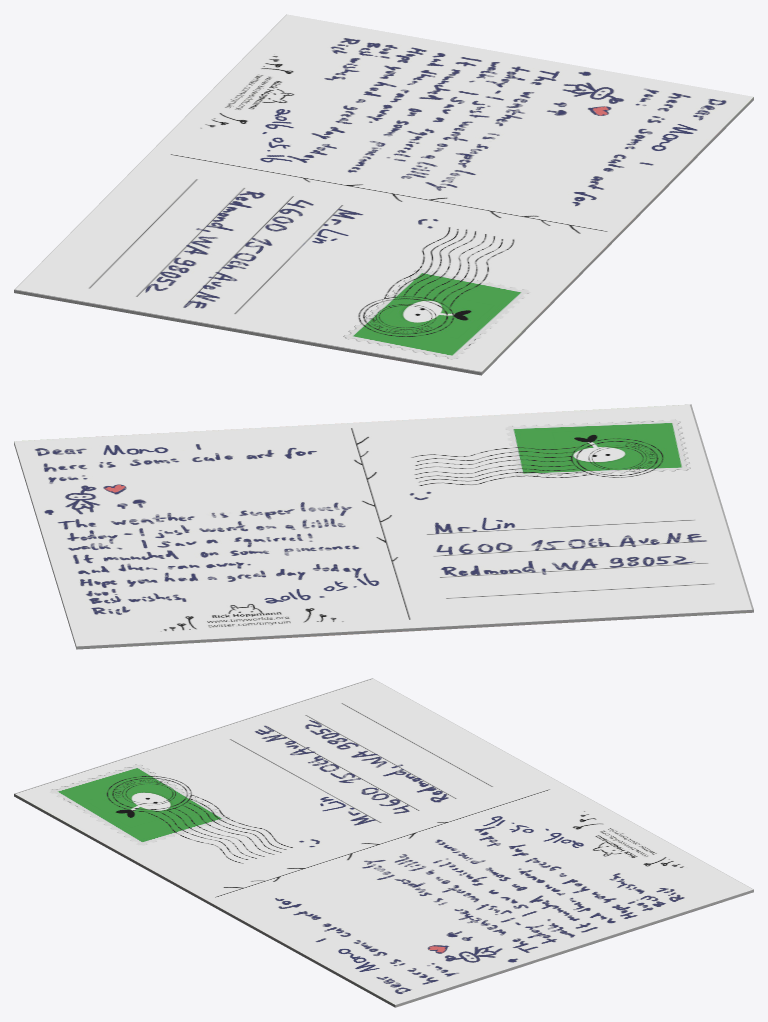
3 renders of one model, top to bottom at view 1: azimuth 30°, elevation 25°; view 2: azimuth 150°, elevation 25°; view 3: azimuth 270°, elevation 25°, orthographic. The views are drawn at different scales.
Parts seen in each view (by area): view 1: postcard1_back; view 2: postcard1_back; view 3: postcard1_back.
Part boxes in pixels (bbox=[...]): postcard1_back: bbox=[14, 14, 753, 375]; postcard1_back: bbox=[14, 404, 753, 649]; postcard1_back: bbox=[14, 678, 753, 1007].
Bounding box in the file's own units: 10.49 × 0.0406 × 10.03.
Materials: 1 (1 with a texture image).
